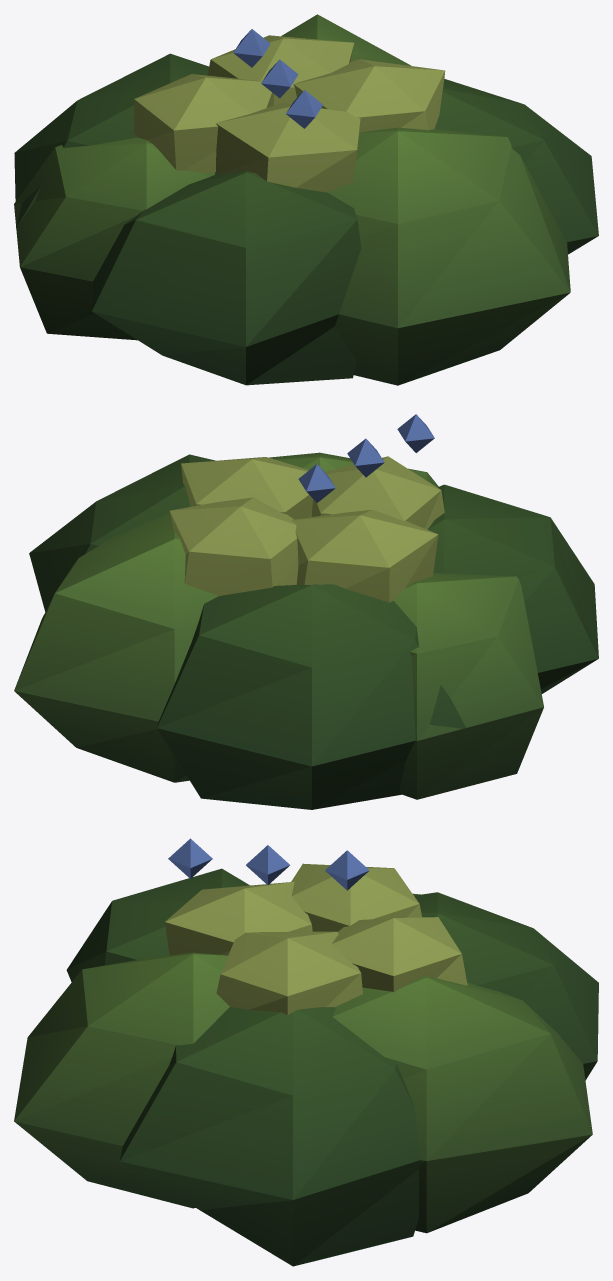
The model's file is fern_bush.glb.
3 views of the same model, one above another, from view 1: azimuth 30°, elevation 25°; view 2: azimuth 150°, elevation 25°; view 3: azimuth 270°, elevation 25° (orthographic). The views are drawn at different scales.
Parts seen in each view (by area): view 1: fern_bush; view 2: fern_bush; view 3: fern_bush.
Boxes of the visible parts, <box> form: fern_bush: <box>14,14,598,385</box>; fern_bush: <box>14,414,598,809</box>; fern_bush: <box>14,838,598,1266</box>.
Bounding box in the file's own units: 1.45 × 0.7735 × 1.3.
